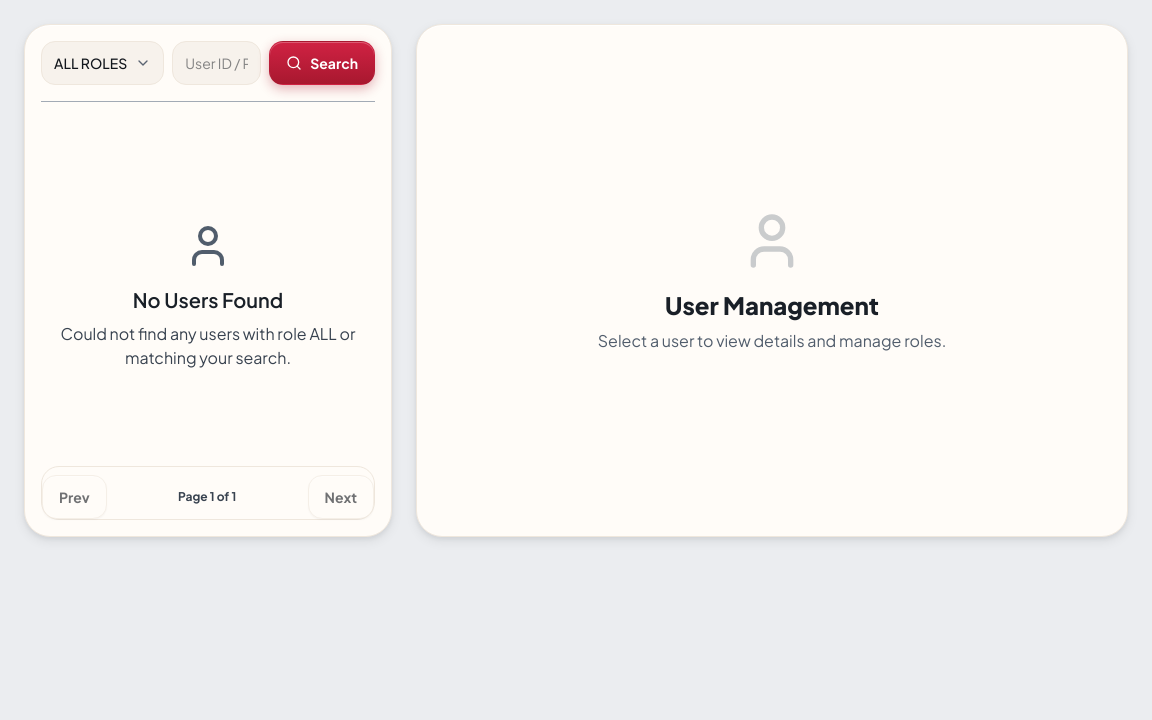
Scenario: AdminUserManagement search › finds a user by the phone number they sign in with
This screenshot has width=1152, height=720.
Type "+91 80000 00001" into the field with placeholder "User ID / Phone".
click(217, 63); type("+91 80000 00001")  # box [172, 41, 261, 85]
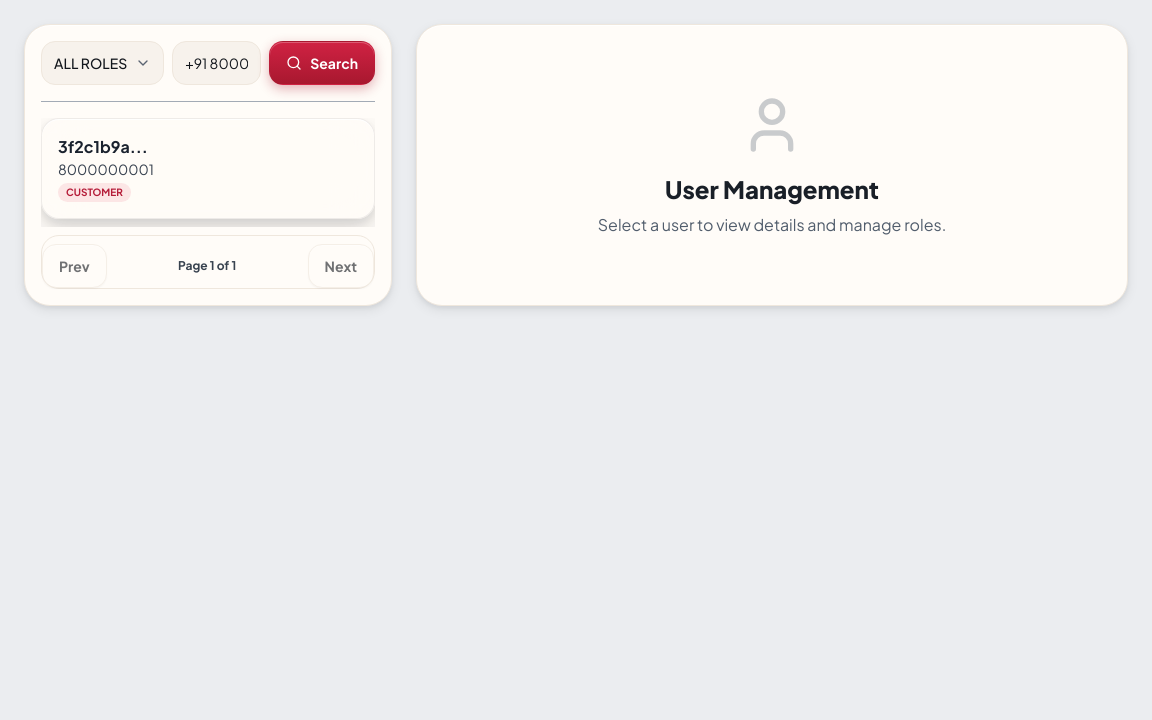
Result: the text "8000000001" is shown at [58, 160, 154, 178]
